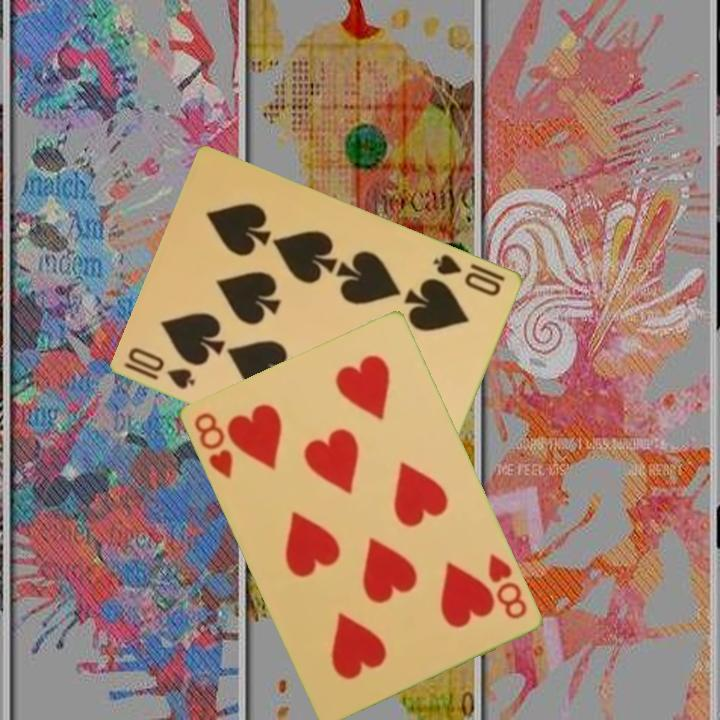10s: (120, 343, 199, 392), (430, 250, 505, 299)
8h: (483, 549, 530, 622), (190, 408, 235, 482)
